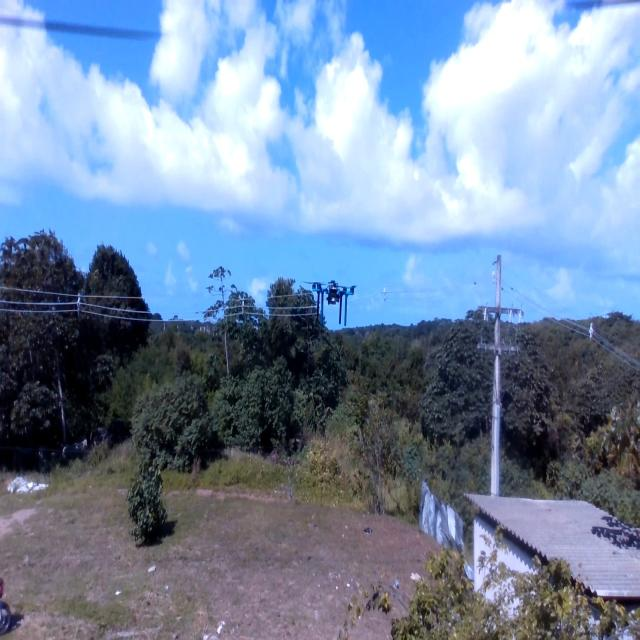-uav-: (301, 268, 357, 341)
